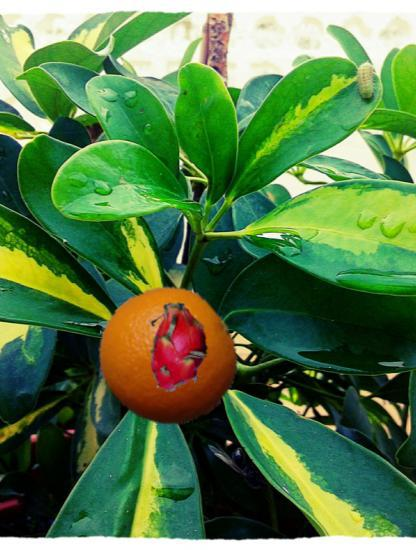Orange: (99, 287, 238, 426)
Pitahaya: (131, 302, 222, 393)
